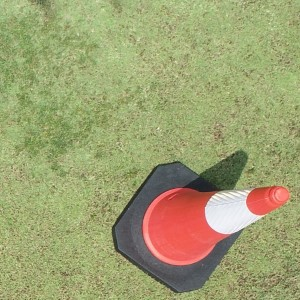traffic cone: (112, 160, 289, 293)
